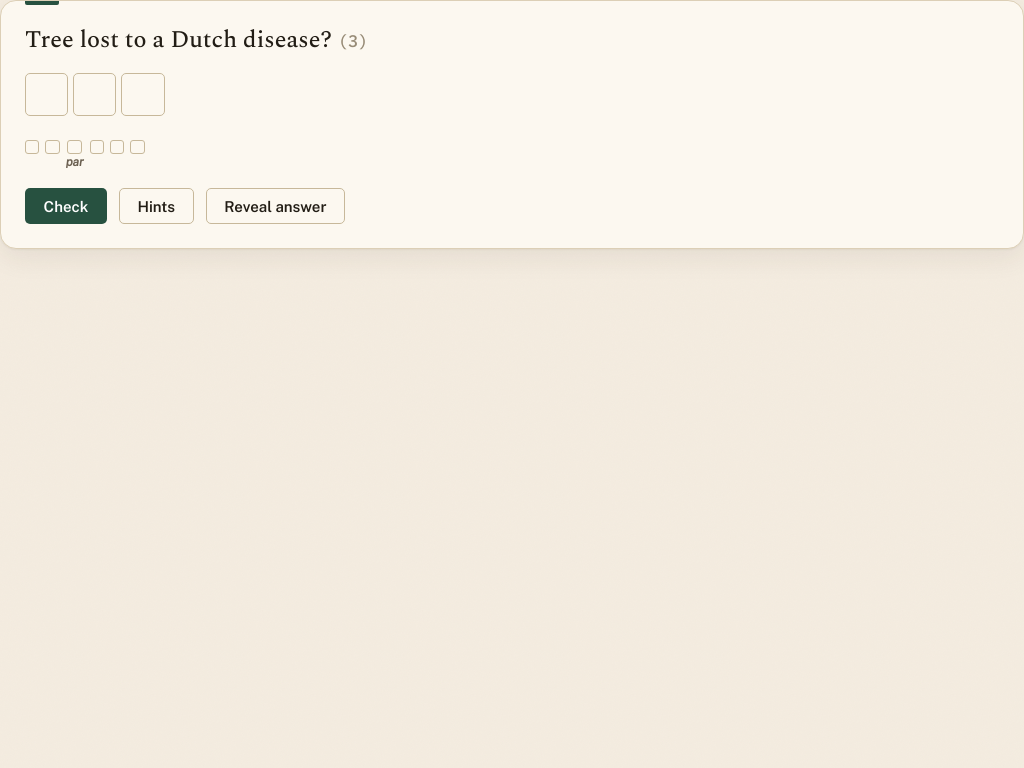
Test case: DailyClueCard › solving reports the score against par
The image size is (1024, 768).
Click the button "Hints".
click(156, 206)  # box [119, 188, 194, 224]
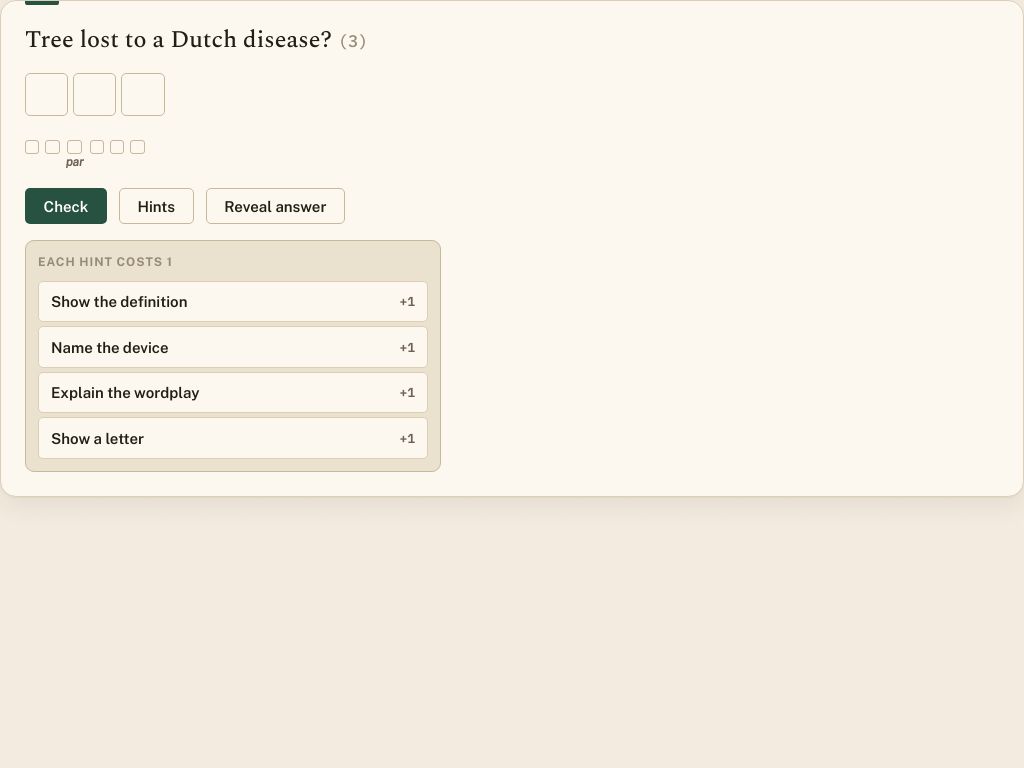
Click the button "Show the definition +1".
click(119, 301)  # box [38, 281, 428, 322]
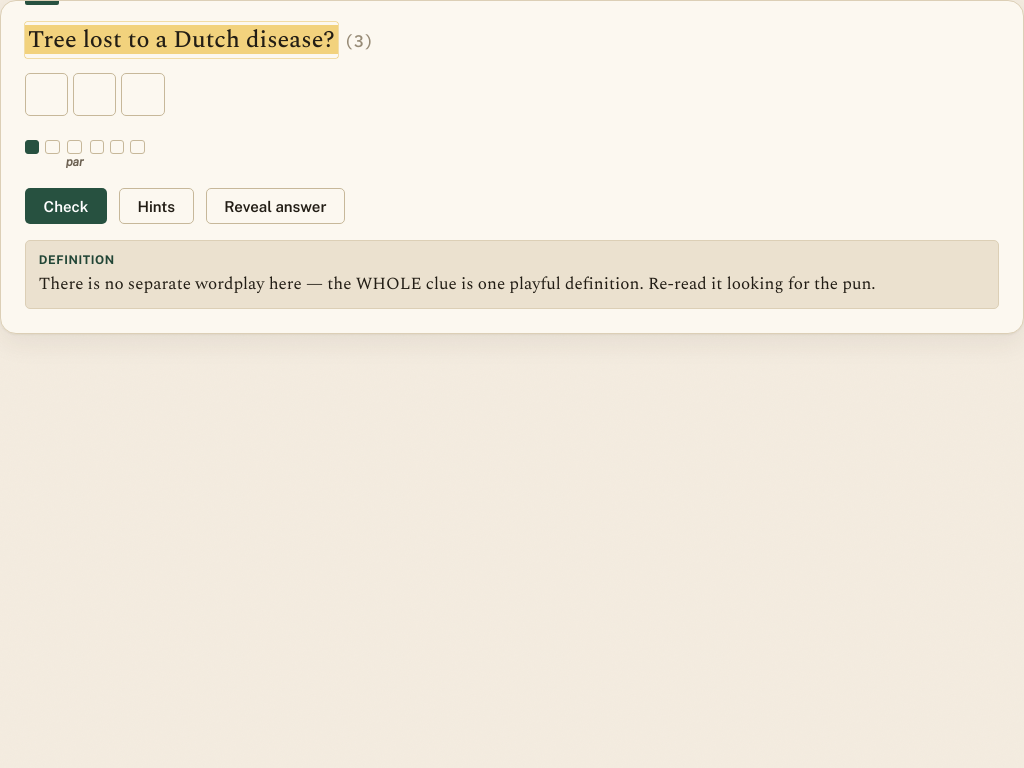
Type "E" into the field named "Letter 1".
click(47, 94); type("E")  # box [25, 73, 68, 116]
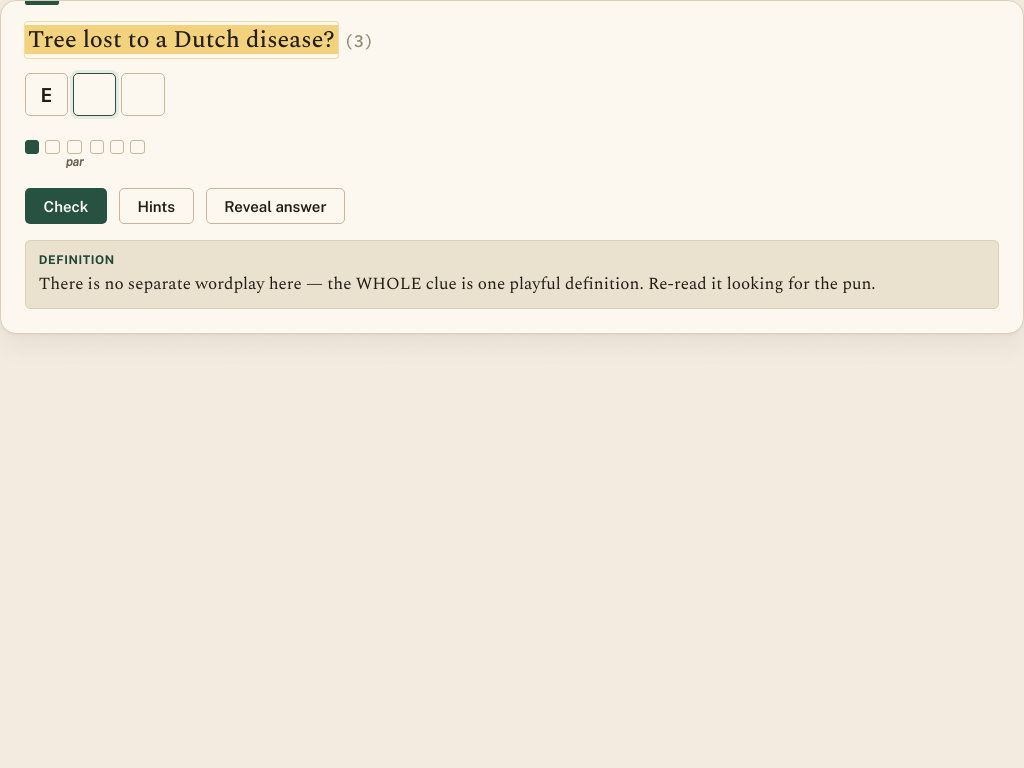
Type "L" into the field named "Letter 2".
click(95, 94); type("L")  # box [73, 73, 116, 116]
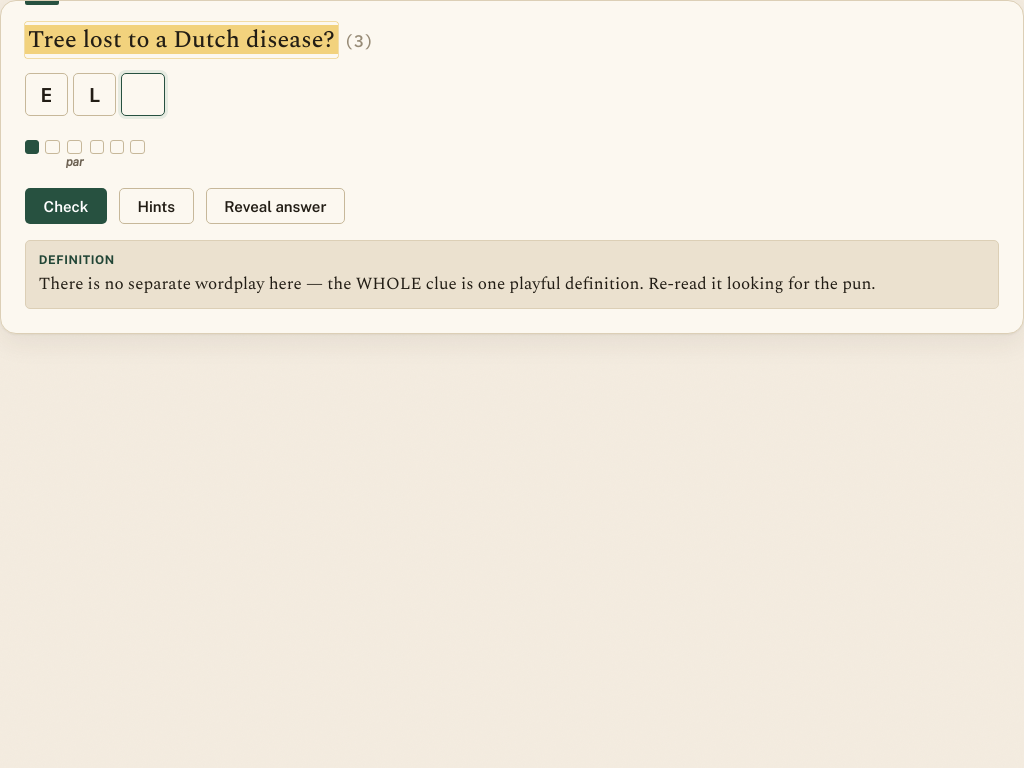
Type "M" into the field named "Letter 3".
click(143, 94); type("M")  # box [121, 73, 165, 116]
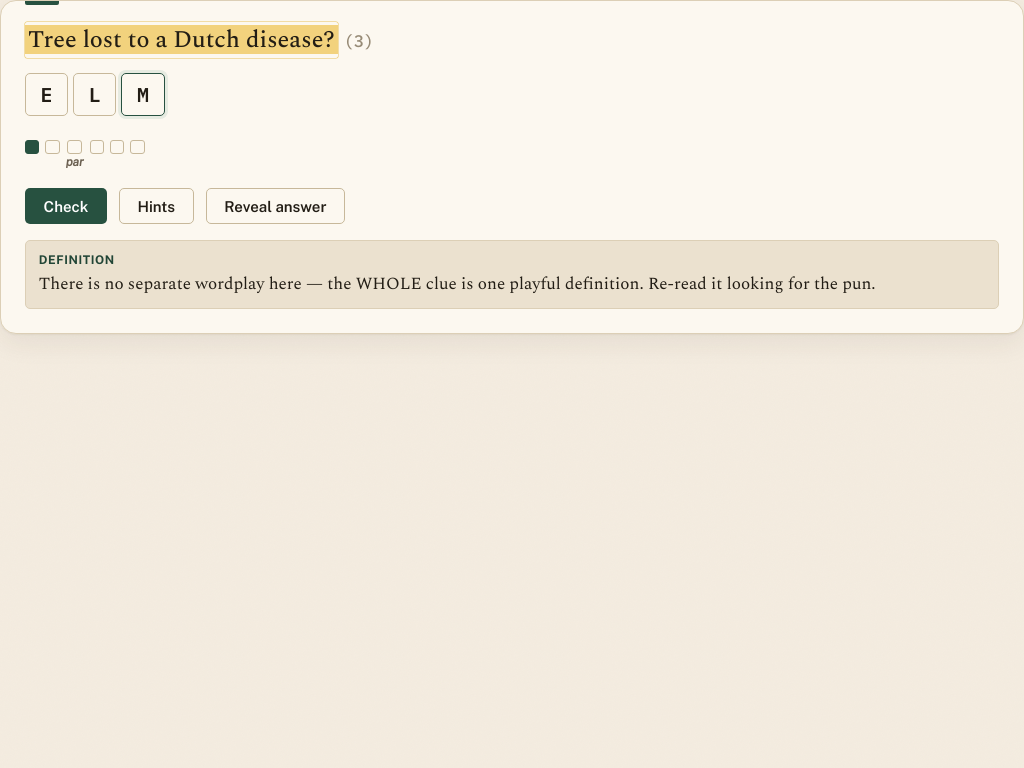
Click the button "Check".
click(66, 206)  # box [25, 188, 107, 224]
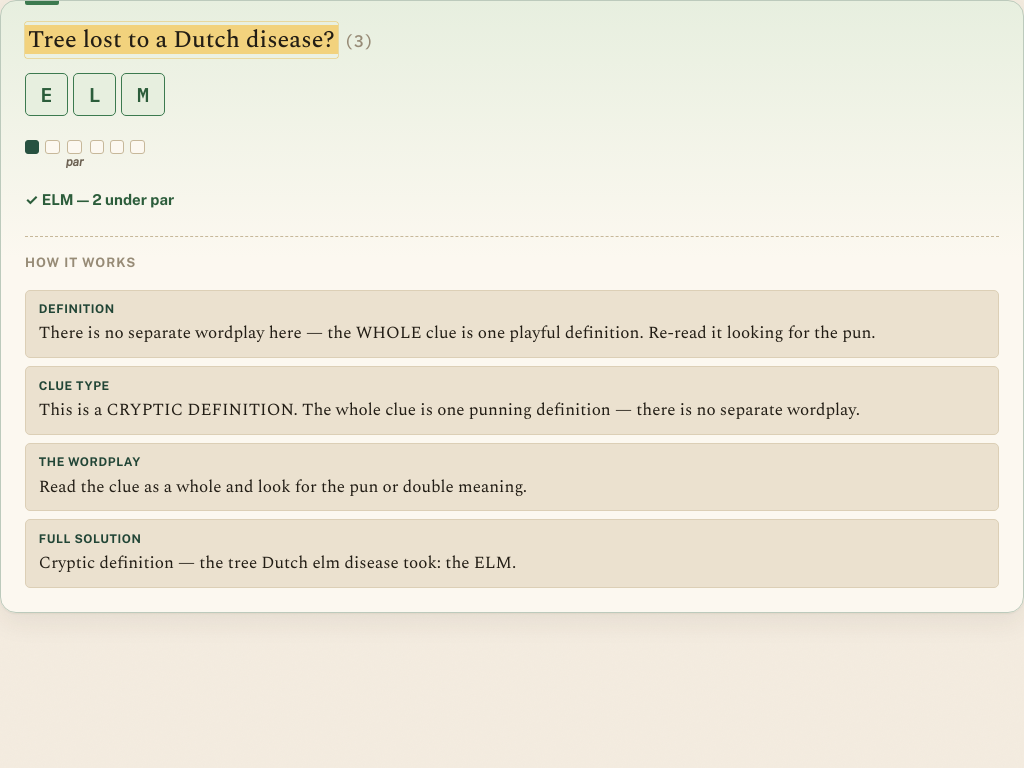
Check: the message shows "2 under par", box [74, 191, 174, 208]
